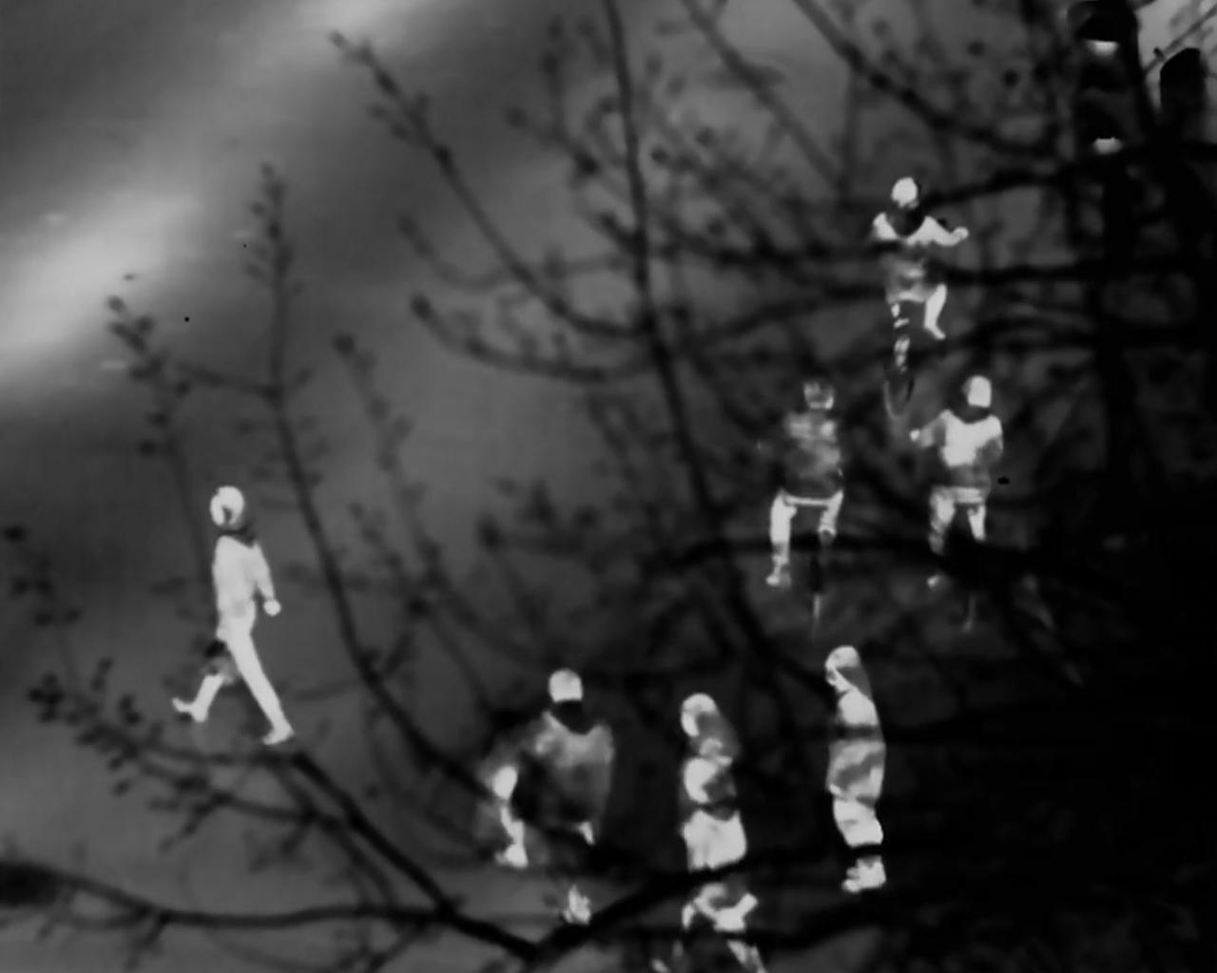person: (182, 484, 291, 748), (490, 671, 623, 880), (917, 361, 1022, 581), (679, 694, 766, 959), (872, 174, 968, 393), (674, 756, 763, 973), (777, 372, 852, 588), (822, 642, 887, 890)
